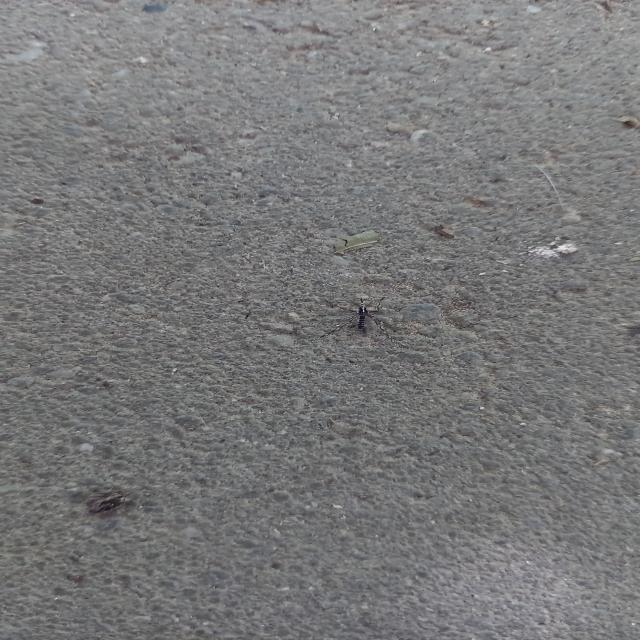albopictus: (297, 291, 418, 343)
